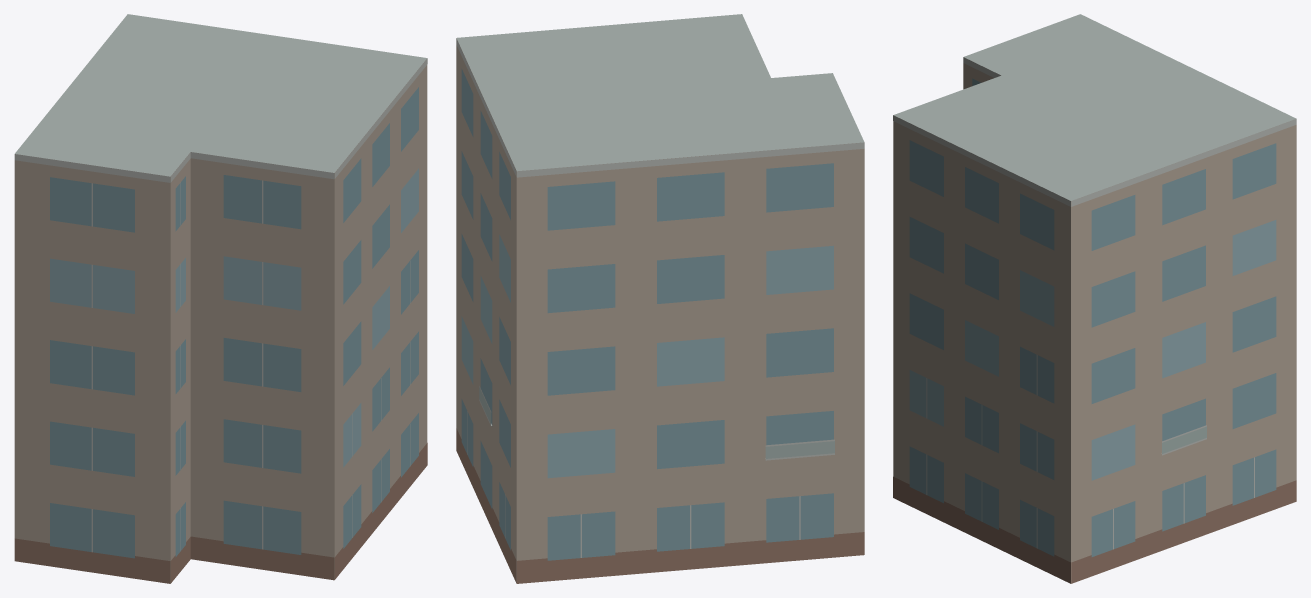
The model's file is survey-upis-32947919.glb.
3 views of the same model, side by side, from view 1: azimuth 30°, elevation 25°; view 2: azimuth 150°, elevation 25°; view 3: azimuth 270°, elevation 25° (orthographic). The views are drawn at different scales.
Parts seen in each view (by area): view 1: survey-upis-32947919.tmp; view 2: survey-upis-32947919.tmp; view 3: survey-upis-32947919.tmp.
Part boxes in pixels (x1=…): survey-upis-32947919.tmp: x1=14, y1=14, x2=427, y2=583; survey-upis-32947919.tmp: x1=456, y1=14, x2=864, y2=583; survey-upis-32947919.tmp: x1=893, y1=14, x2=1296, y2=583.
Size of the model in its own units: 16.52 by 15.75 by 15.05.
